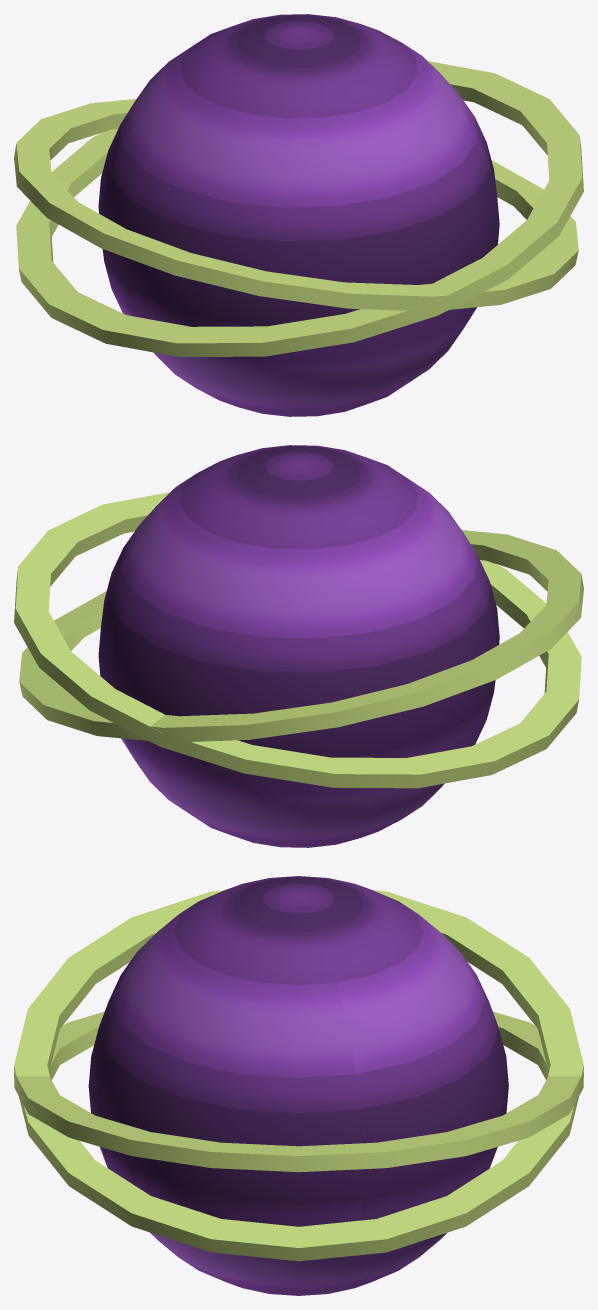
The model's file is little_purple_planet.glb.
The picture shows the model from 3 angles, top to bottom: view 1: azimuth 30°, elevation 25°; view 2: azimuth 150°, elevation 25°; view 3: azimuth 270°, elevation 25°; orthographic projection. The views are drawn at different scales.
Visible parts, largest first — view 1: planeet_3, ringen; view 2: planeet_3, ringen; view 3: planeet_3, ringen.
Boxes of the visible parts, bbox=[...] form: planeet_3: bbox=[98, 14, 499, 416]; ringen: bbox=[14, 61, 583, 356]; planeet_3: bbox=[98, 445, 499, 847]; ringen: bbox=[14, 492, 583, 788]; planeet_3: bbox=[88, 876, 508, 1295]; ringen: bbox=[14, 890, 583, 1261].
Size of the model in its own units: 144 by 100 by 136.
Materials: 2 (1 with a texture image).
